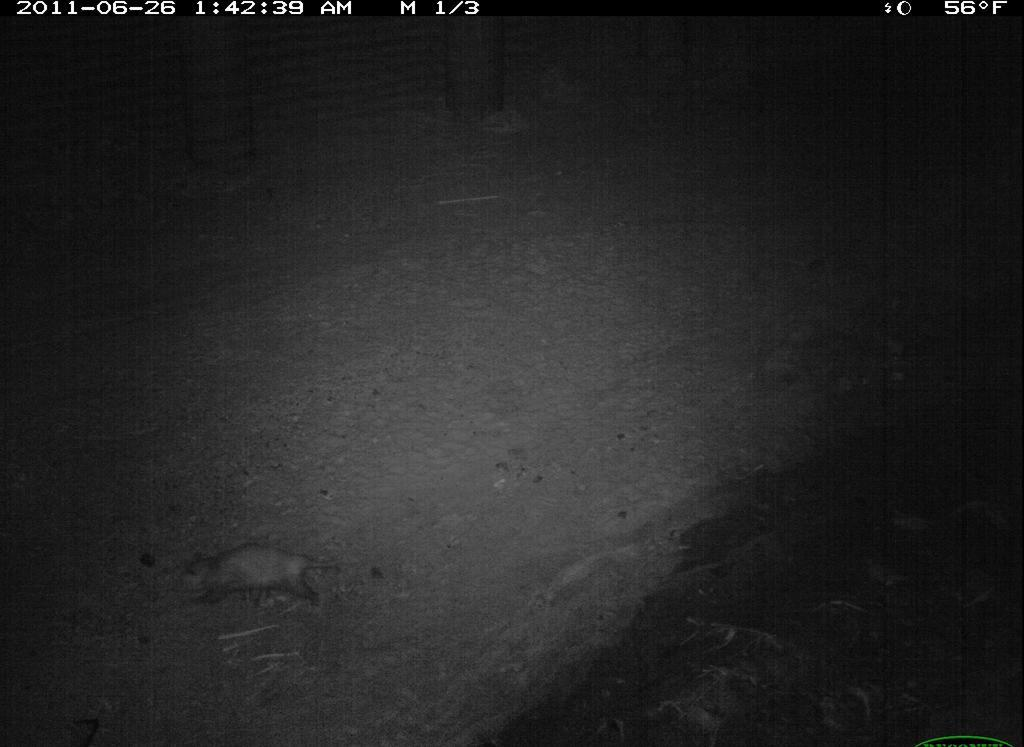opossum: (168, 536, 349, 617)
